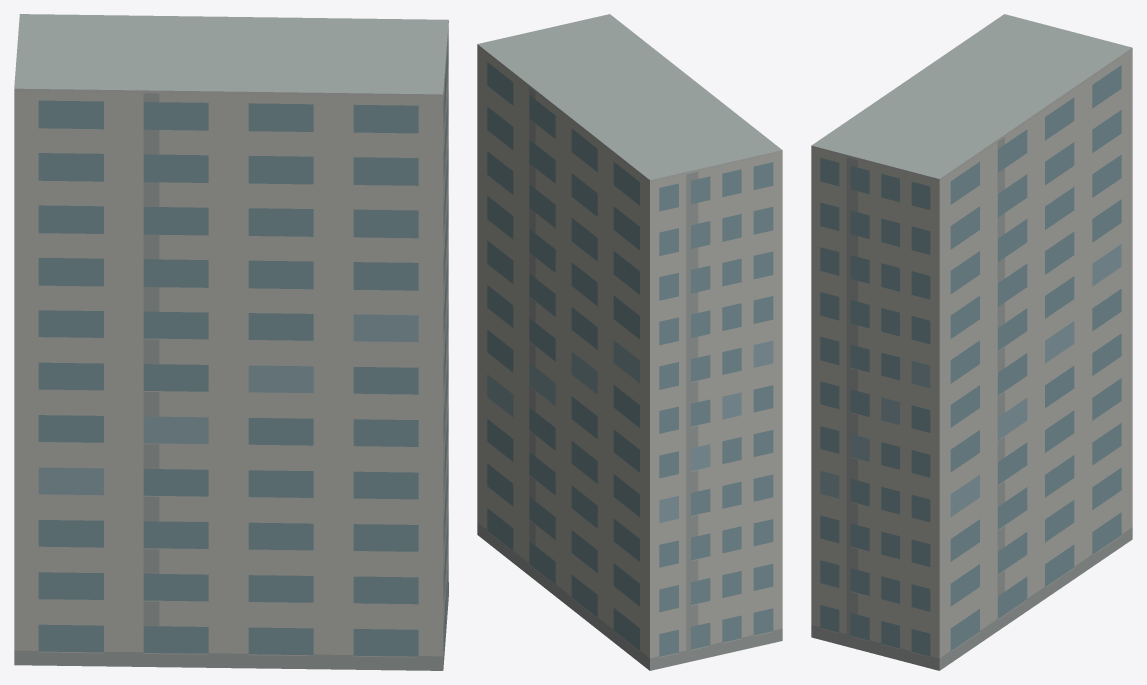
Rendered from residential-dbe80653-c56f-4764-9033-ceaa3aa989e7.glb.
3 renders of one model, left to right at view 1: azimuth 30°, elevation 25°; view 2: azimuth 150°, elevation 25°; view 3: azimuth 270°, elevation 25°, orthographic. The views are drawn at different scales.
Parts seen in each view (by area): view 1: residential-dbe80653-c56f-4764-9033-ceaa3aa989e7.tmp; view 2: residential-dbe80653-c56f-4764-9033-ceaa3aa989e7.tmp; view 3: residential-dbe80653-c56f-4764-9033-ceaa3aa989e7.tmp.
Boxes of the visible parts, bbox=[...] form: residential-dbe80653-c56f-4764-9033-ceaa3aa989e7.tmp: bbox=[14, 14, 448, 670]; residential-dbe80653-c56f-4764-9033-ceaa3aa989e7.tmp: bbox=[477, 14, 782, 670]; residential-dbe80653-c56f-4764-9033-ceaa3aa989e7.tmp: bbox=[811, 14, 1132, 670].
Bounding box in the file's own units: 34.56 × 48 × 28.42.
